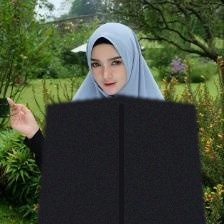Cadar_Niqab: (37, 18, 206, 224)
